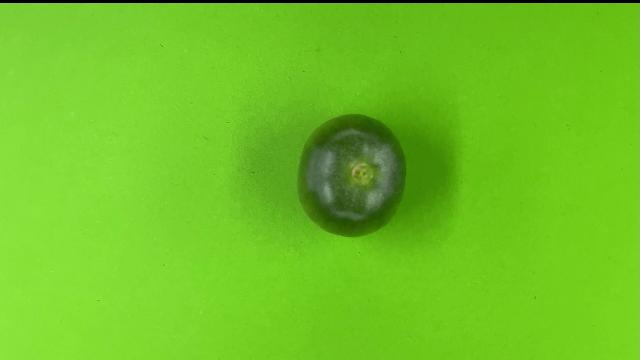Fruit Maturation: (293, 111, 410, 241)
